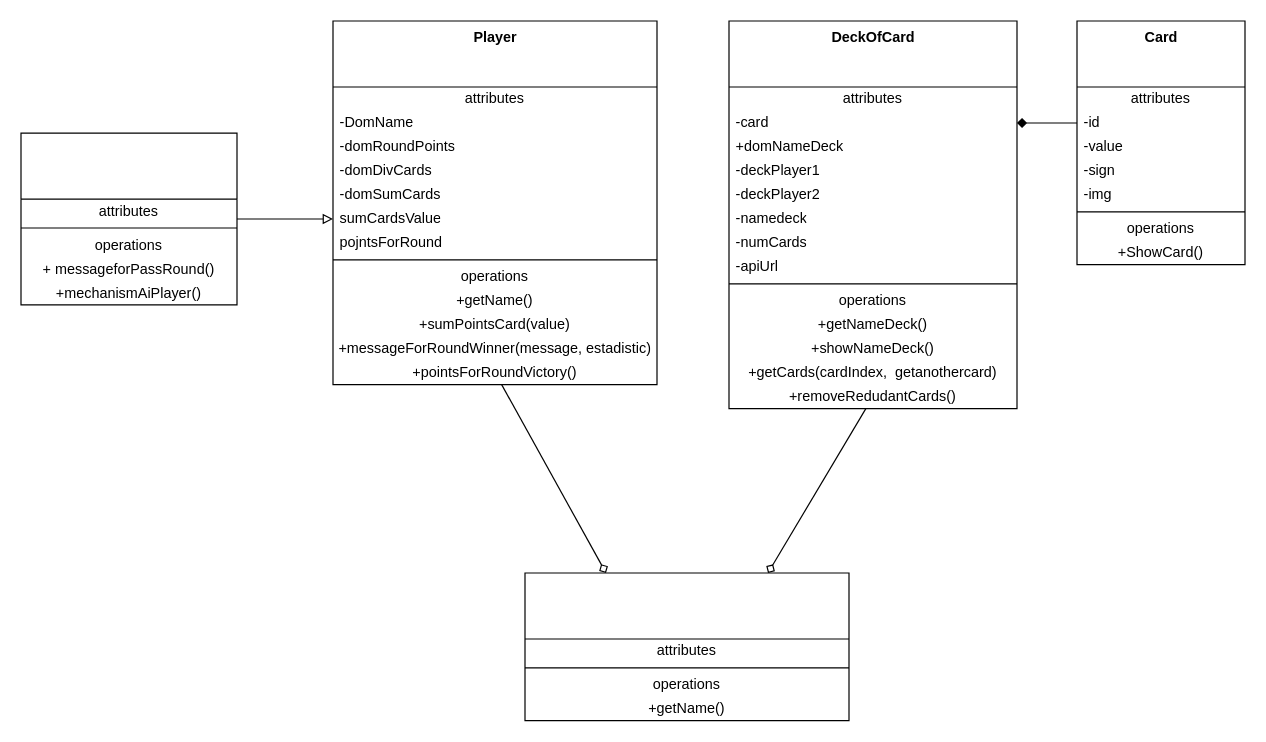
This 1266x742 diagram has some shape labels left out. The shapes that lost their labels are listed below. From the top down, each one's box as (x1, y1, x2, y2) in pixels, then its label:
(20, 132, 237, 305): MachinePlayer
(524, 572, 849, 721): Game
